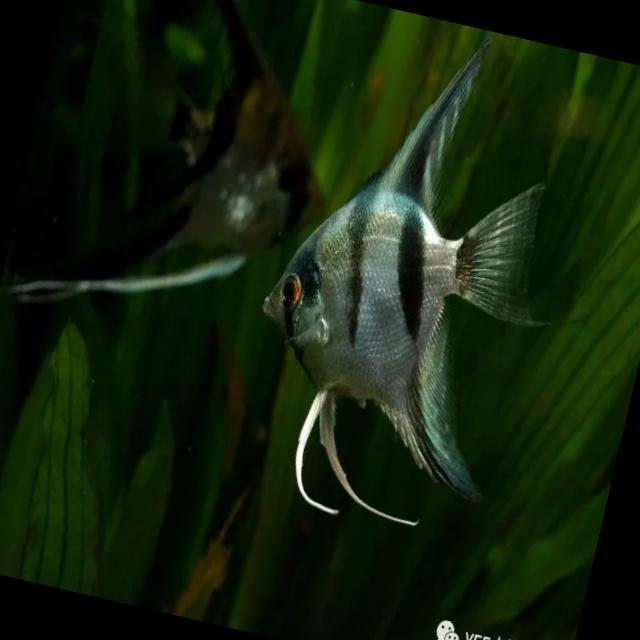AngelFish: (216, 3, 578, 561), (13, 0, 376, 386)
